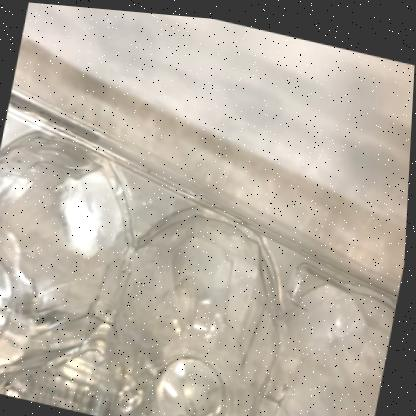Plastic: (0, 88, 402, 416)
